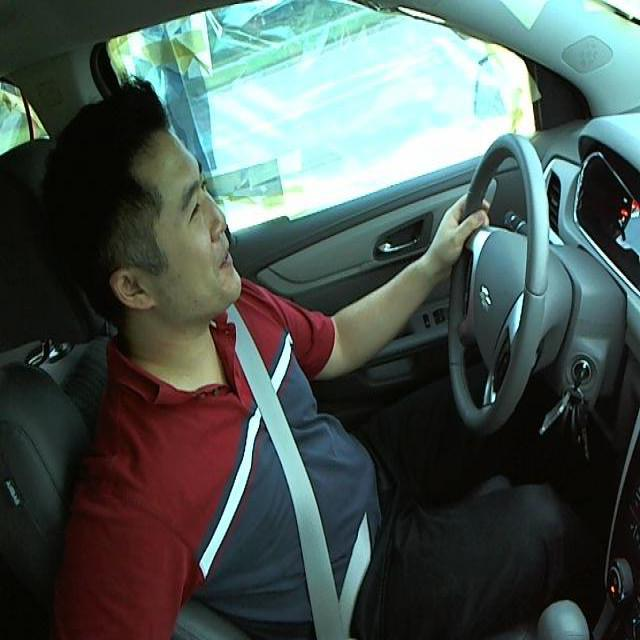seatbelt: (227, 336, 369, 639)
